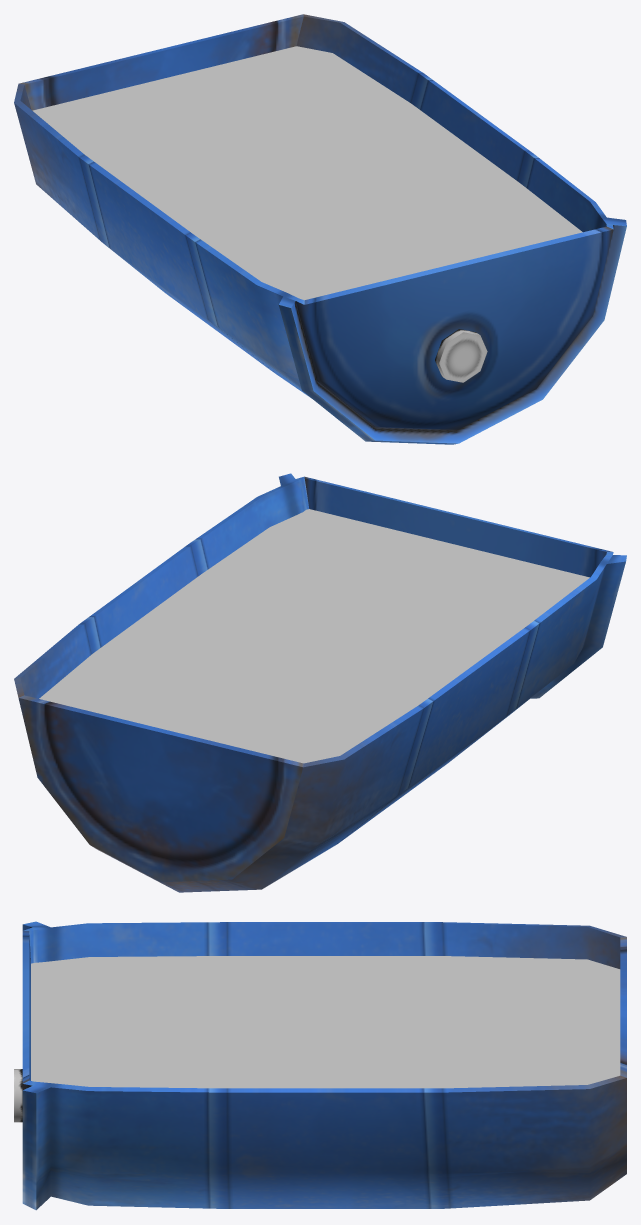
The model's file is raisedBed_barrel01.fbx.
The picture shows the model from 3 angles, top to bottom: view 1: azimuth 30°, elevation 25°; view 2: azimuth 150°, elevation 25°; view 3: azimuth 270°, elevation 25°; orthographic projection.
Parts seen in each view (by area): view 1: raisedBed_barrel01; view 2: raisedBed_barrel01; view 3: raisedBed_barrel01.
Boxes of the visible parts, x1,y1,x2,y2 form: raisedBed_barrel01: (14, 14, 626, 444); raisedBed_barrel01: (14, 473, 626, 892); raisedBed_barrel01: (14, 921, 626, 1210).
Bounding box in the file's own units: 62.13 × 31.43 × 93.69.
